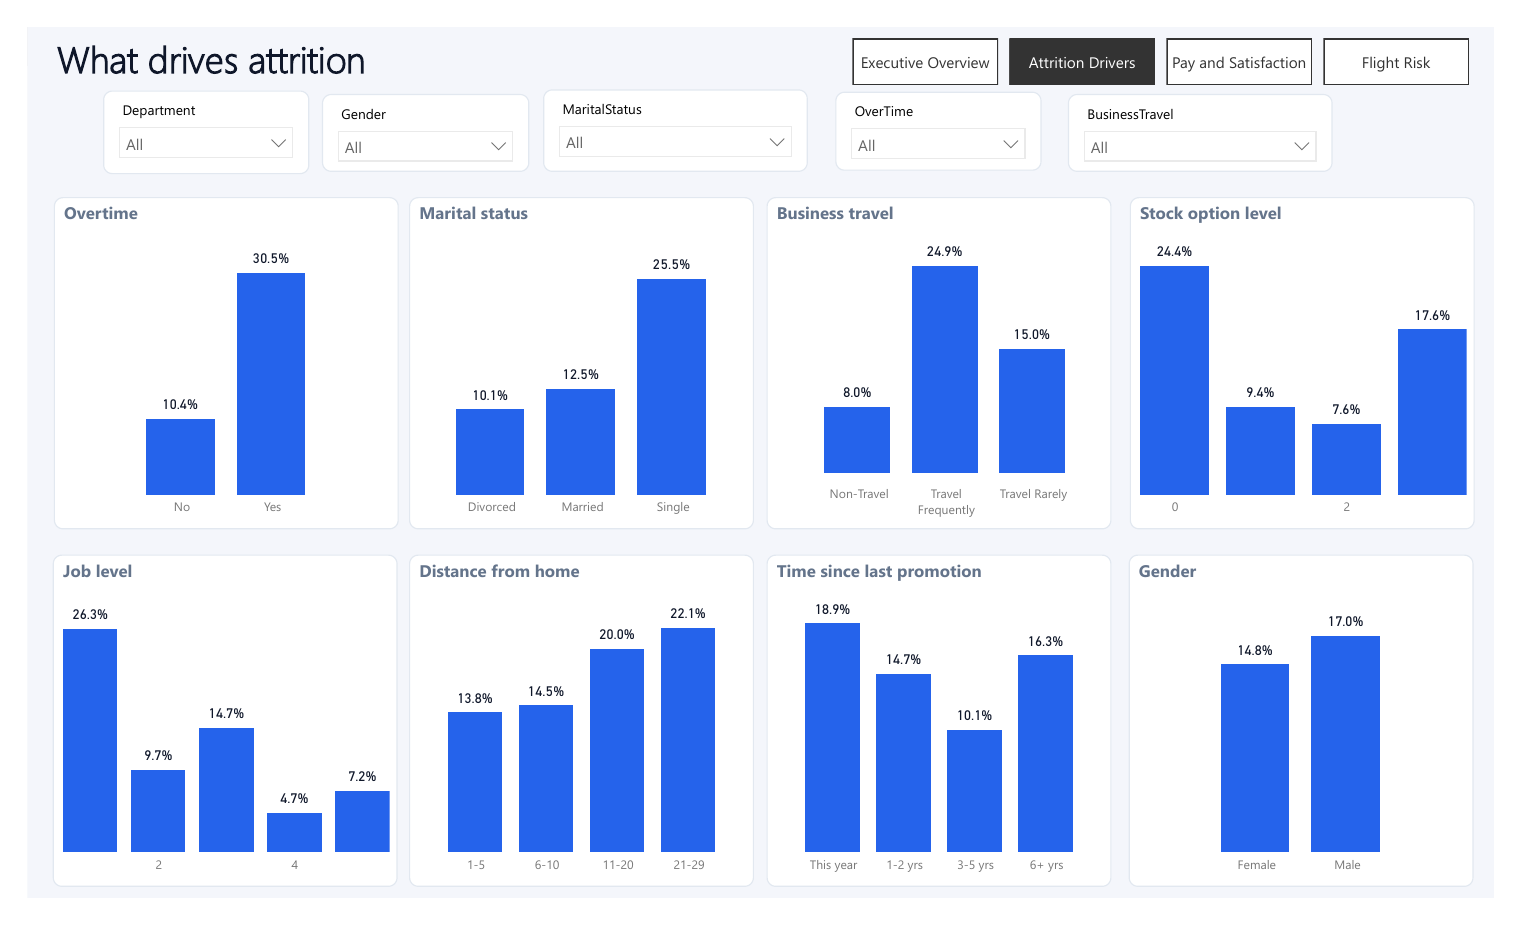

This screenshot's page, from the dashboard's own definition file:
{"tool":"powerbi","page":{"name":"Attrition Drivers","canvas":[1280,760],"ordinal":1},"visuals":[{"type":"textbox","box":[20.6,0,688.9,57.6],"z":0},{"type":"pageNavigator","box":[720,10,540,40],"z":1000},{"type":"slicer","fields":{"Values":["HR.Gender"]},"box":[256.6,57.6,181.1,68.6],"z":3000},{"type":"slicer","fields":{"Values":["HR.MaritalStatus"]},"box":[450.1,53.5,230.5,72.7],"z":4000},{"type":"slicer","fields":{"Values":["HR.OverTime"]},"box":[705.3,56.3,179.8,68.6],"z":5000},{"type":"slicer","fields":{"Values":["HR.BusinessTravel"]},"box":[908.4,57.6,230.5,68.6],"z":6000},{"type":"clusteredColumnChart","title":"Overtime","fields":{"Category":["HR.OverTime"],"Y":["HR.Attrition Rate"]},"box":[23.3,148.2,301,290],"z":7000},{"type":"clusteredColumnChart","title":"Marital status","fields":{"Category":["HR.MaritalStatus"],"Y":["HR.Attrition Rate"]},"box":[333.4,148.2,301,290],"z":8000},{"type":"clusteredColumnChart","title":"Business travel","fields":{"Category":["HR.BusinessTravel"],"Y":["HR.Attrition Rate"]},"box":[644.9,148.2,301,290],"z":9000},{"type":"clusteredColumnChart","title":"Stock option level","fields":{"Category":["HR.StockOptionLevel"],"Y":["HR.Attrition Rate"]},"box":[961.9,148.2,301,290],"z":10000},{"type":"clusteredColumnChart","title":"Job level","fields":{"Category":["HR.JobLevel"],"Y":["HR.Attrition Rate"]},"box":[22,459.7,301,290],"z":11000},{"type":"clusteredColumnChart","title":"Distance from home","fields":{"Category":["HR.DistanceBand"],"Y":["HR.Attrition Rate"]},"box":[333.4,459.7,301,290],"z":12000},{"type":"clusteredColumnChart","title":"Time since last promotion","fields":{"Category":["HR.PromotionGapBand"],"Y":["HR.Attrition Rate"]},"box":[644.9,459.7,301,290],"z":13000},{"type":"clusteredColumnChart","title":"Gender","fields":{"Category":["HR.Gender"],"Y":["HR.Attrition Rate"]},"box":[960.6,459.7,301,290],"z":14000},{"type":"slicer","fields":{"Values":["HR.Department"]},"box":[65.9,54.9,179.8,72.7],"z":14001}]}

Visuals, with their boxes in screenshot pixels (x1, y1, x2, y2), scaled from the page's 1280x760 canvas onto the 1522x926 screenshot:
textbox: crop(24, 0, 844, 70)
pageNavigator: crop(856, 12, 1498, 61)
slicer - HR.Gender: crop(305, 70, 520, 154)
slicer - HR.MaritalStatus: crop(535, 65, 809, 154)
slicer - HR.OverTime: crop(839, 69, 1052, 152)
slicer - HR.BusinessTravel: crop(1080, 70, 1354, 154)
"Overtime" clusteredColumnChart: crop(28, 181, 386, 534)
"Marital status" clusteredColumnChart: crop(396, 181, 754, 534)
"Business travel" clusteredColumnChart: crop(767, 181, 1125, 534)
"Stock option level" clusteredColumnChart: crop(1144, 181, 1502, 534)
"Job level" clusteredColumnChart: crop(26, 560, 384, 913)
"Distance from home" clusteredColumnChart: crop(396, 560, 754, 913)
"Time since last promotion" clusteredColumnChart: crop(767, 560, 1125, 913)
"Gender" clusteredColumnChart: crop(1142, 560, 1500, 913)
slicer - HR.Department: crop(78, 67, 292, 155)
